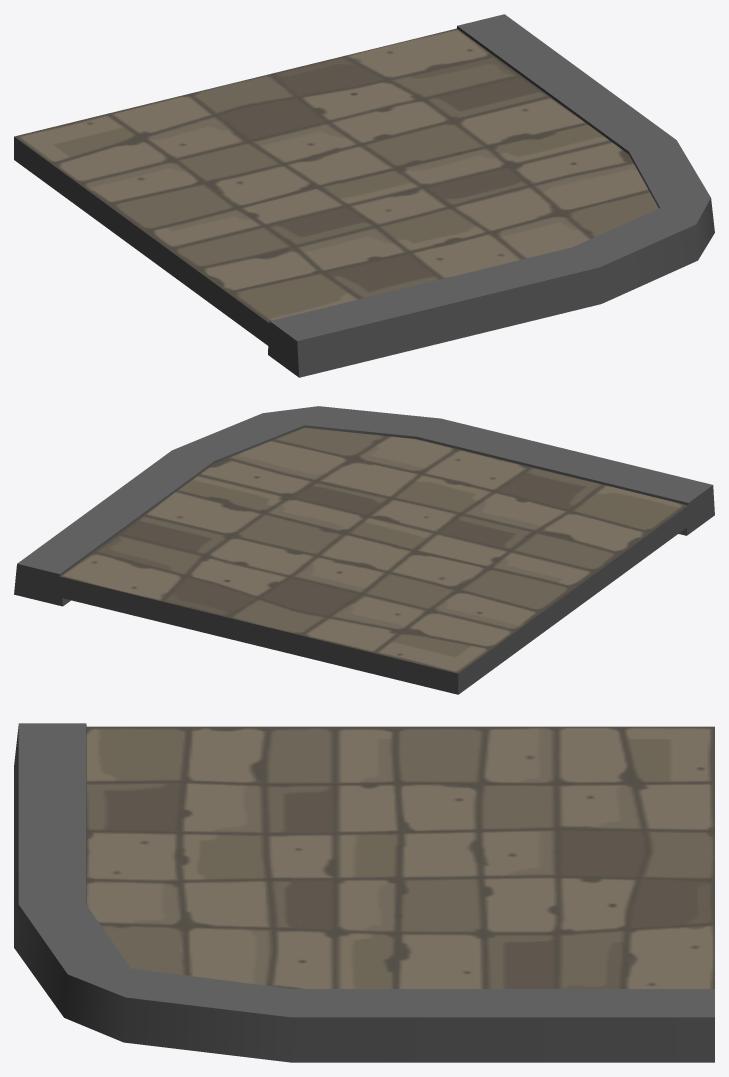
Rendered from Sidewalk_C0.fbx.
The picture shows the model from 3 angles, top to bottom: view 1: azimuth 30°, elevation 25°; view 2: azimuth 150°, elevation 25°; view 3: azimuth 270°, elevation 25°; orthographic projection. The views are drawn at different scales.
Parts seen in each view (by area): view 1: Sidewalk_C1_Corner; view 2: Sidewalk_C1_Corner; view 3: Sidewalk_C1_Corner.
Boxes of the visible parts, x1,y1,x2,y2 form: Sidewalk_C1_Corner: (14, 14, 714, 377); Sidewalk_C1_Corner: (14, 406, 714, 694); Sidewalk_C1_Corner: (14, 723, 714, 1062).
Bounding box in the file's own units: 443 × 30.09 × 443.
